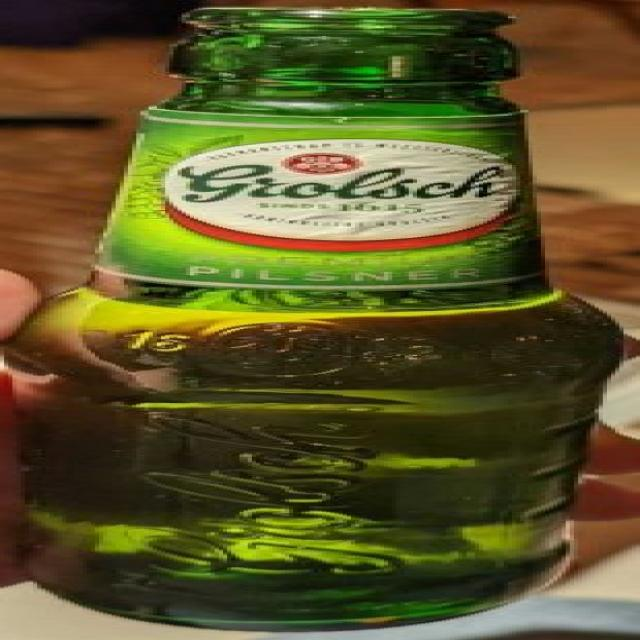Grolsch Premium Pilsner: (4, 0, 640, 640)
